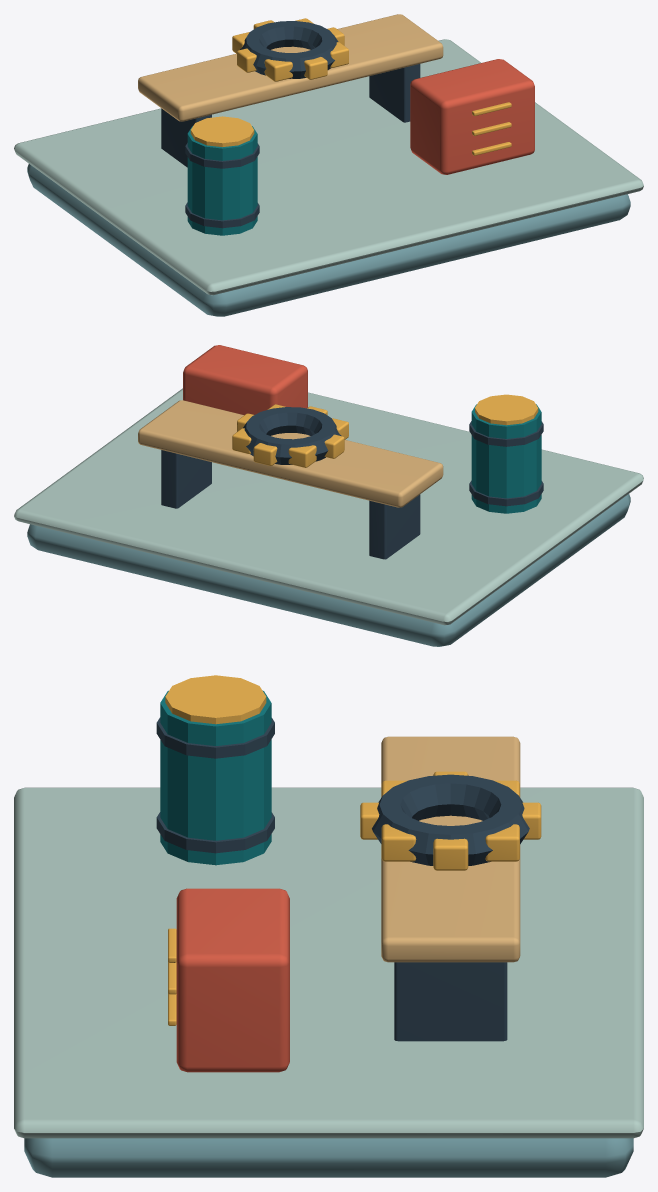
Rendered from Repair_T1.fbx.
The picture shows the model from 3 angles, top to bottom: view 1: azimuth 30°, elevation 25°; view 2: azimuth 150°, elevation 25°; view 3: azimuth 270°, elevation 25°; orthographic projection. The views are drawn at different scales.
Visible parts, largest first — view 1: Repair_T1_Static; view 2: Repair_T1_Static; view 3: Repair_T1_Static.
Boxes of the visible parts, box(x1,y1,x2,y2) form: Repair_T1_Static: box(14, 14, 643, 316); Repair_T1_Static: box(14, 345, 643, 646); Repair_T1_Static: box(14, 675, 643, 1177).
Bounding box in the file's own units: 4.62 × 1.38 × 3.62.
Materials: 1 (1 with a texture image).
